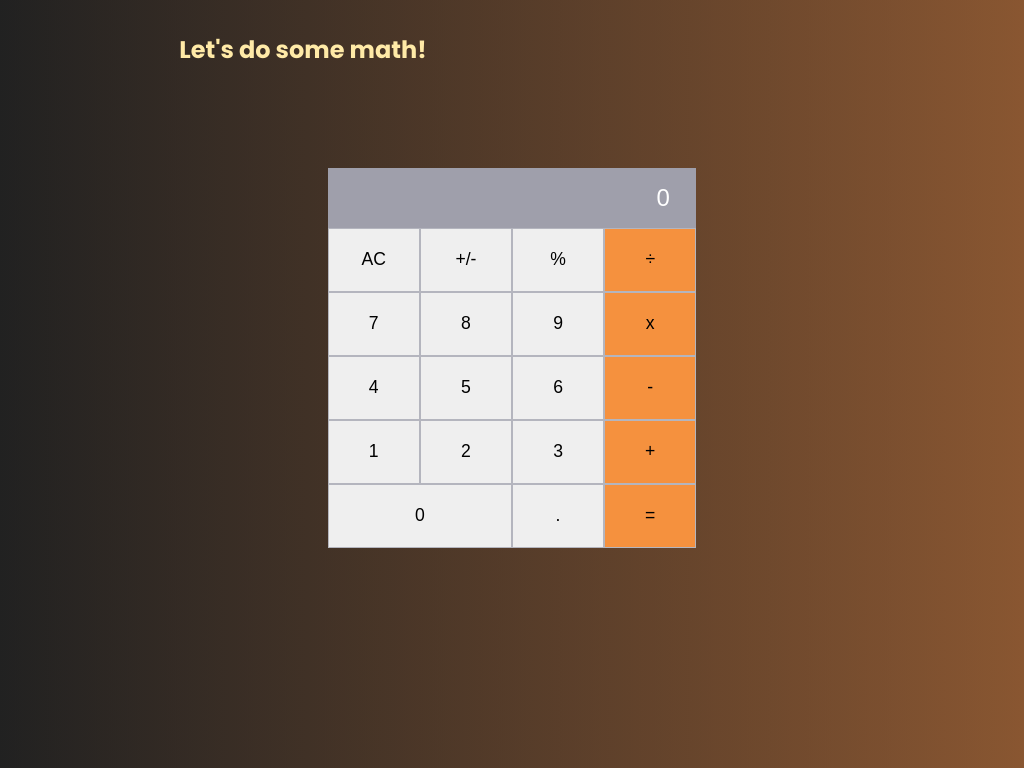
Scenario: Tests for the calculator component and functions it calls › should render the number to be added
Click the button "5" at (466, 388), box [420,356,512,420]
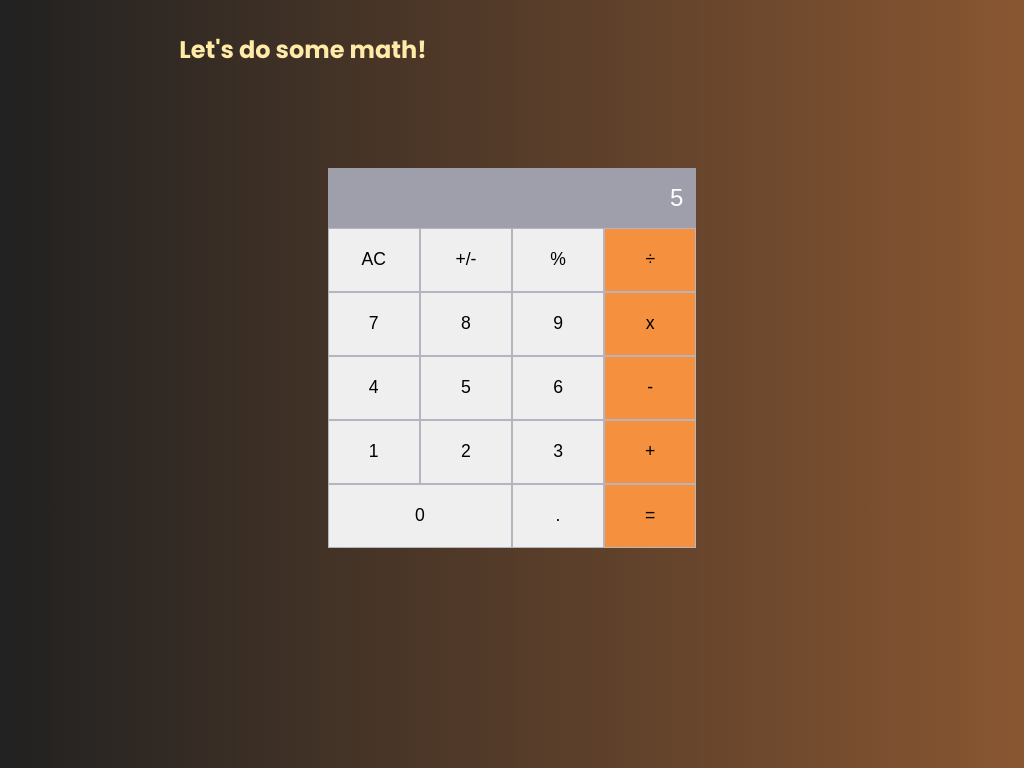
Click the button "+" at (650, 452), box [604,420,696,484]
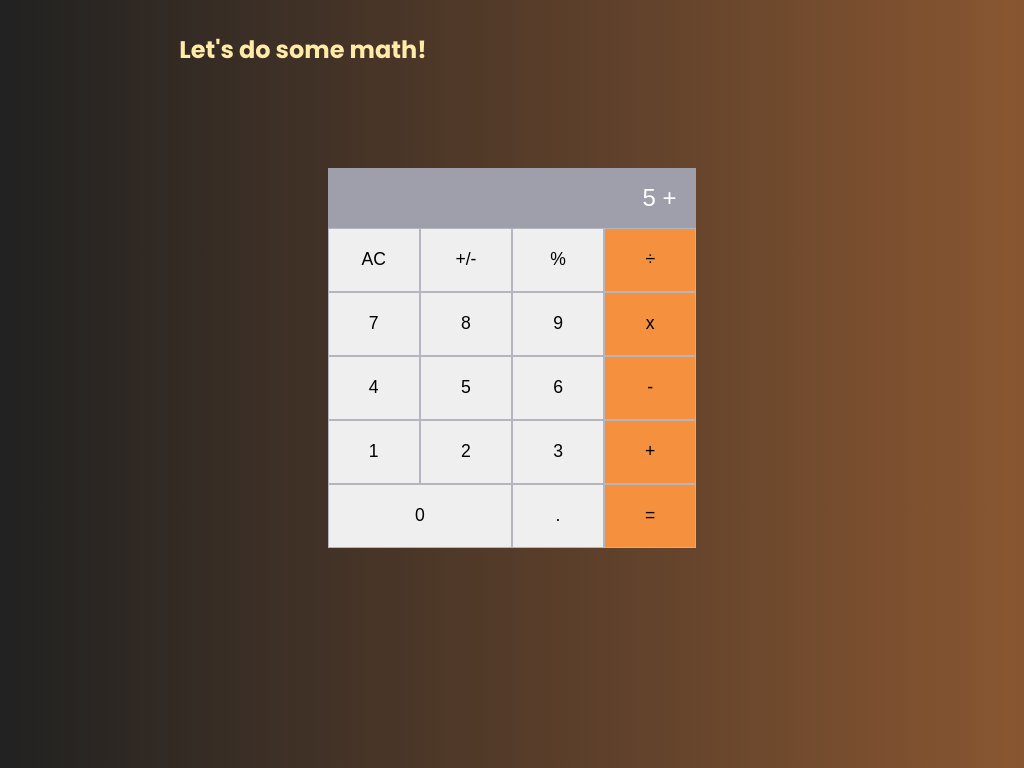
Click the button "9" at (558, 324), box [512,292,604,356]
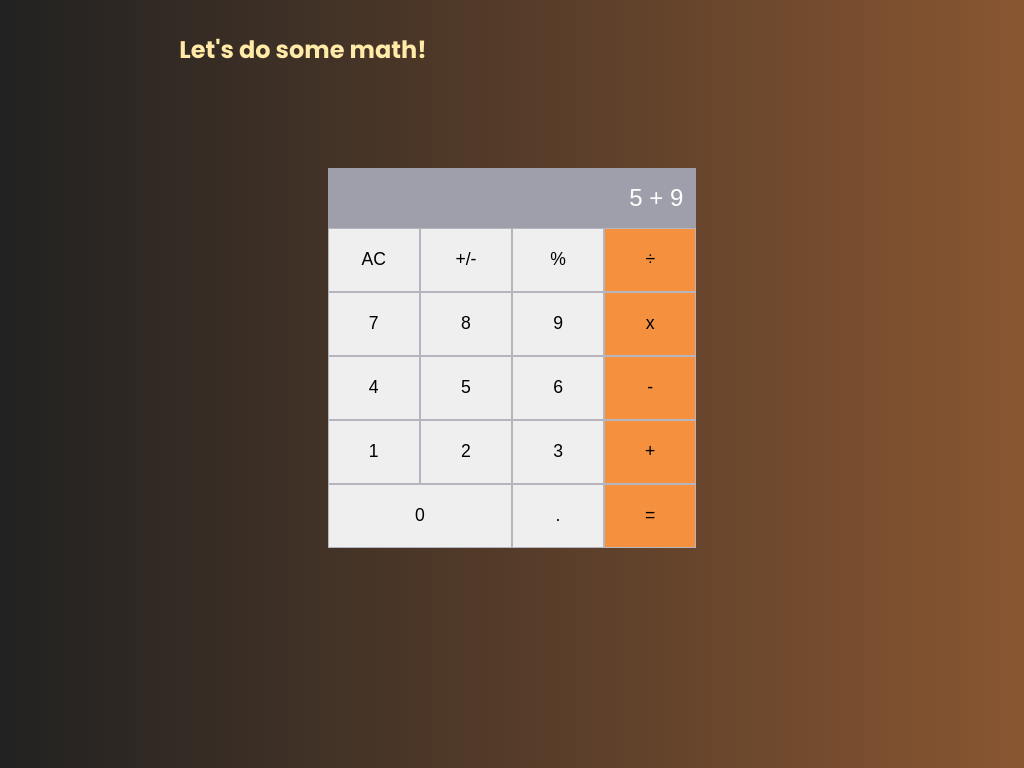
Expected: the field with test id "screen" holds "5 + 9", [328,168,696,228]
